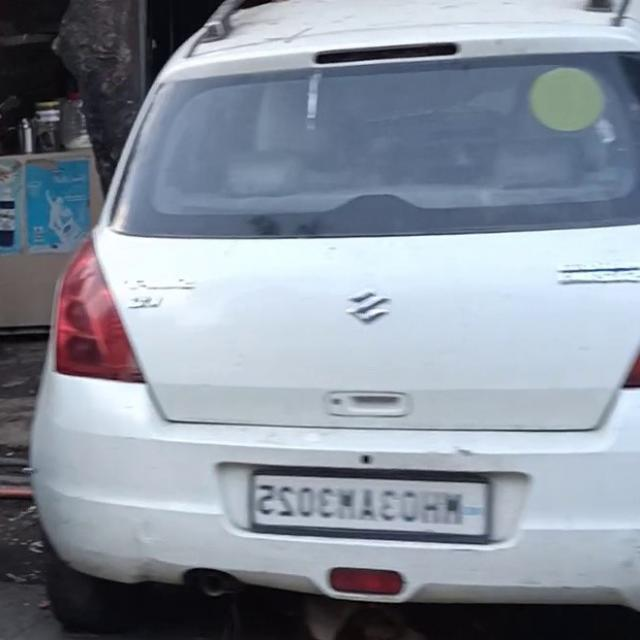license_plate: (238, 466, 499, 552)
